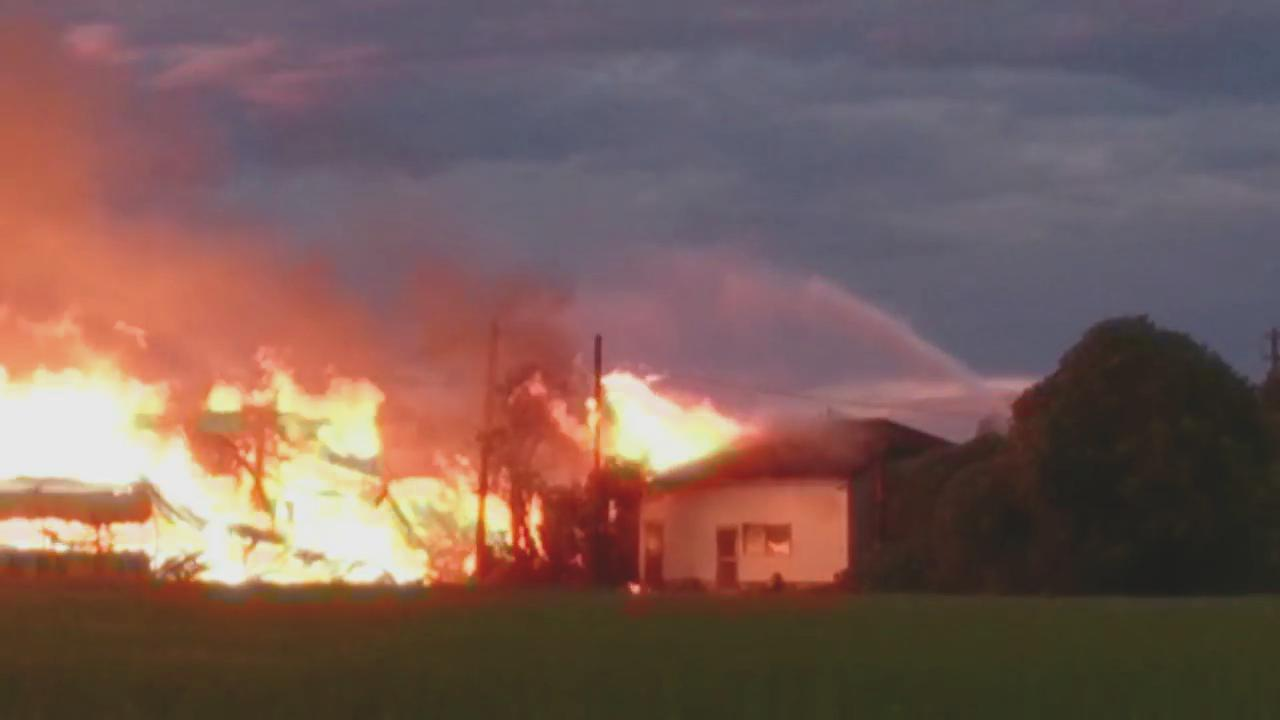Fire: (5, 317, 551, 589), (546, 360, 745, 472)
